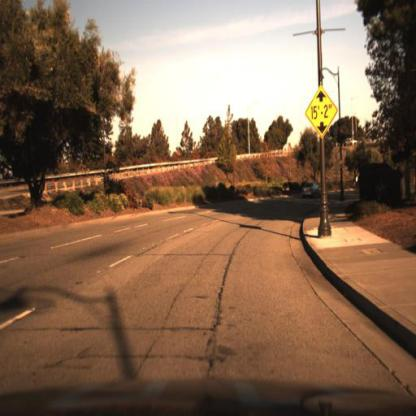car: (303, 181, 325, 203)
